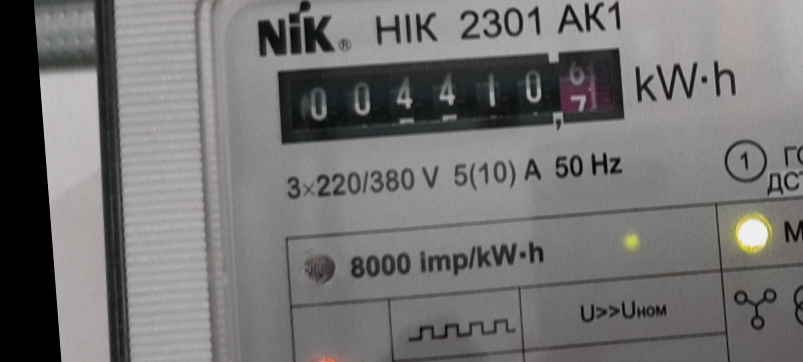0: (305, 81, 329, 121), (521, 66, 544, 103), (350, 77, 371, 116)
1: (482, 69, 498, 107)
4: (434, 68, 459, 108), (391, 70, 415, 110)
6: (568, 58, 587, 85)
7: (568, 91, 588, 112)
screen: (264, 30, 638, 157)
